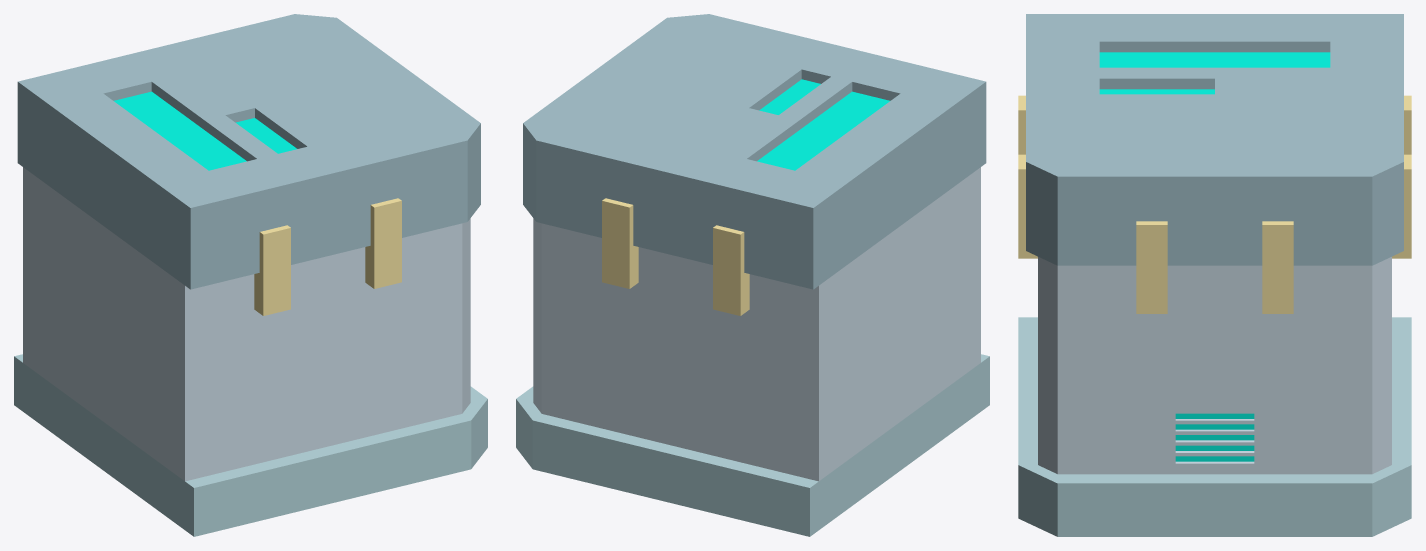
The picture shows the model from 3 angles, left to right: view 1: azimuth 30°, elevation 25°; view 2: azimuth 150°, elevation 25°; view 3: azimuth 270°, elevation 25°; orthographic projection. The views are drawn at different scales.
Visible parts, largest first — view 1: box-g-01; view 2: box-g-01; view 3: box-g-01.
Boxes of the visible parts, box(x1,y1,x2,y2) form: box-g-01: box(14, 14, 487, 536); box-g-01: box(516, 14, 989, 536); box-g-01: box(1018, 14, 1411, 536).
Size of the model in its own units: 100 by 100 by 100.
